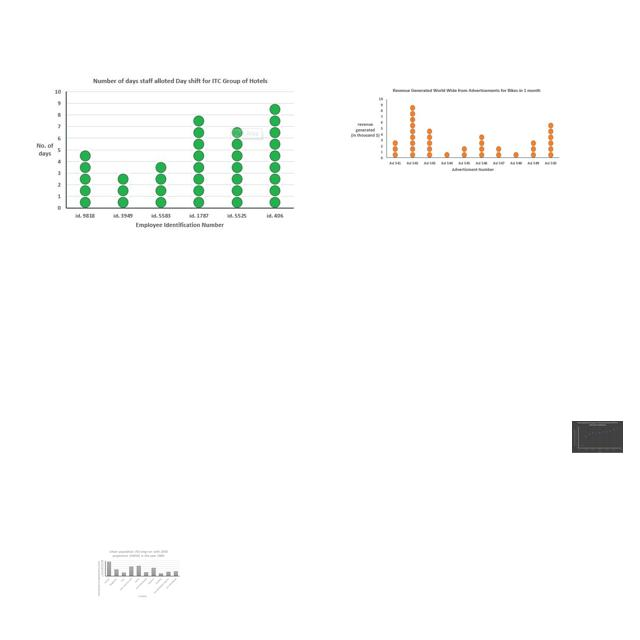Graph: (31, 71, 299, 237), (343, 85, 562, 177), (96, 549, 181, 599), (572, 421, 623, 453)
